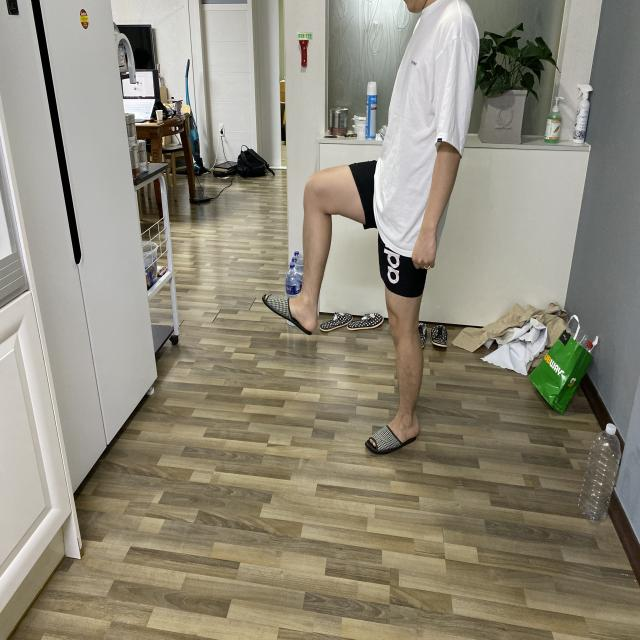no-boots: (256, 280, 335, 346), (358, 409, 427, 463)
